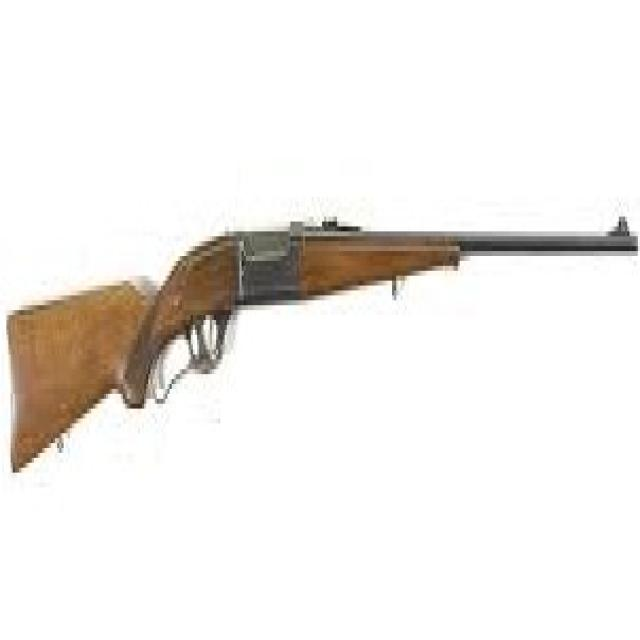rifle: (1, 208, 640, 492)
